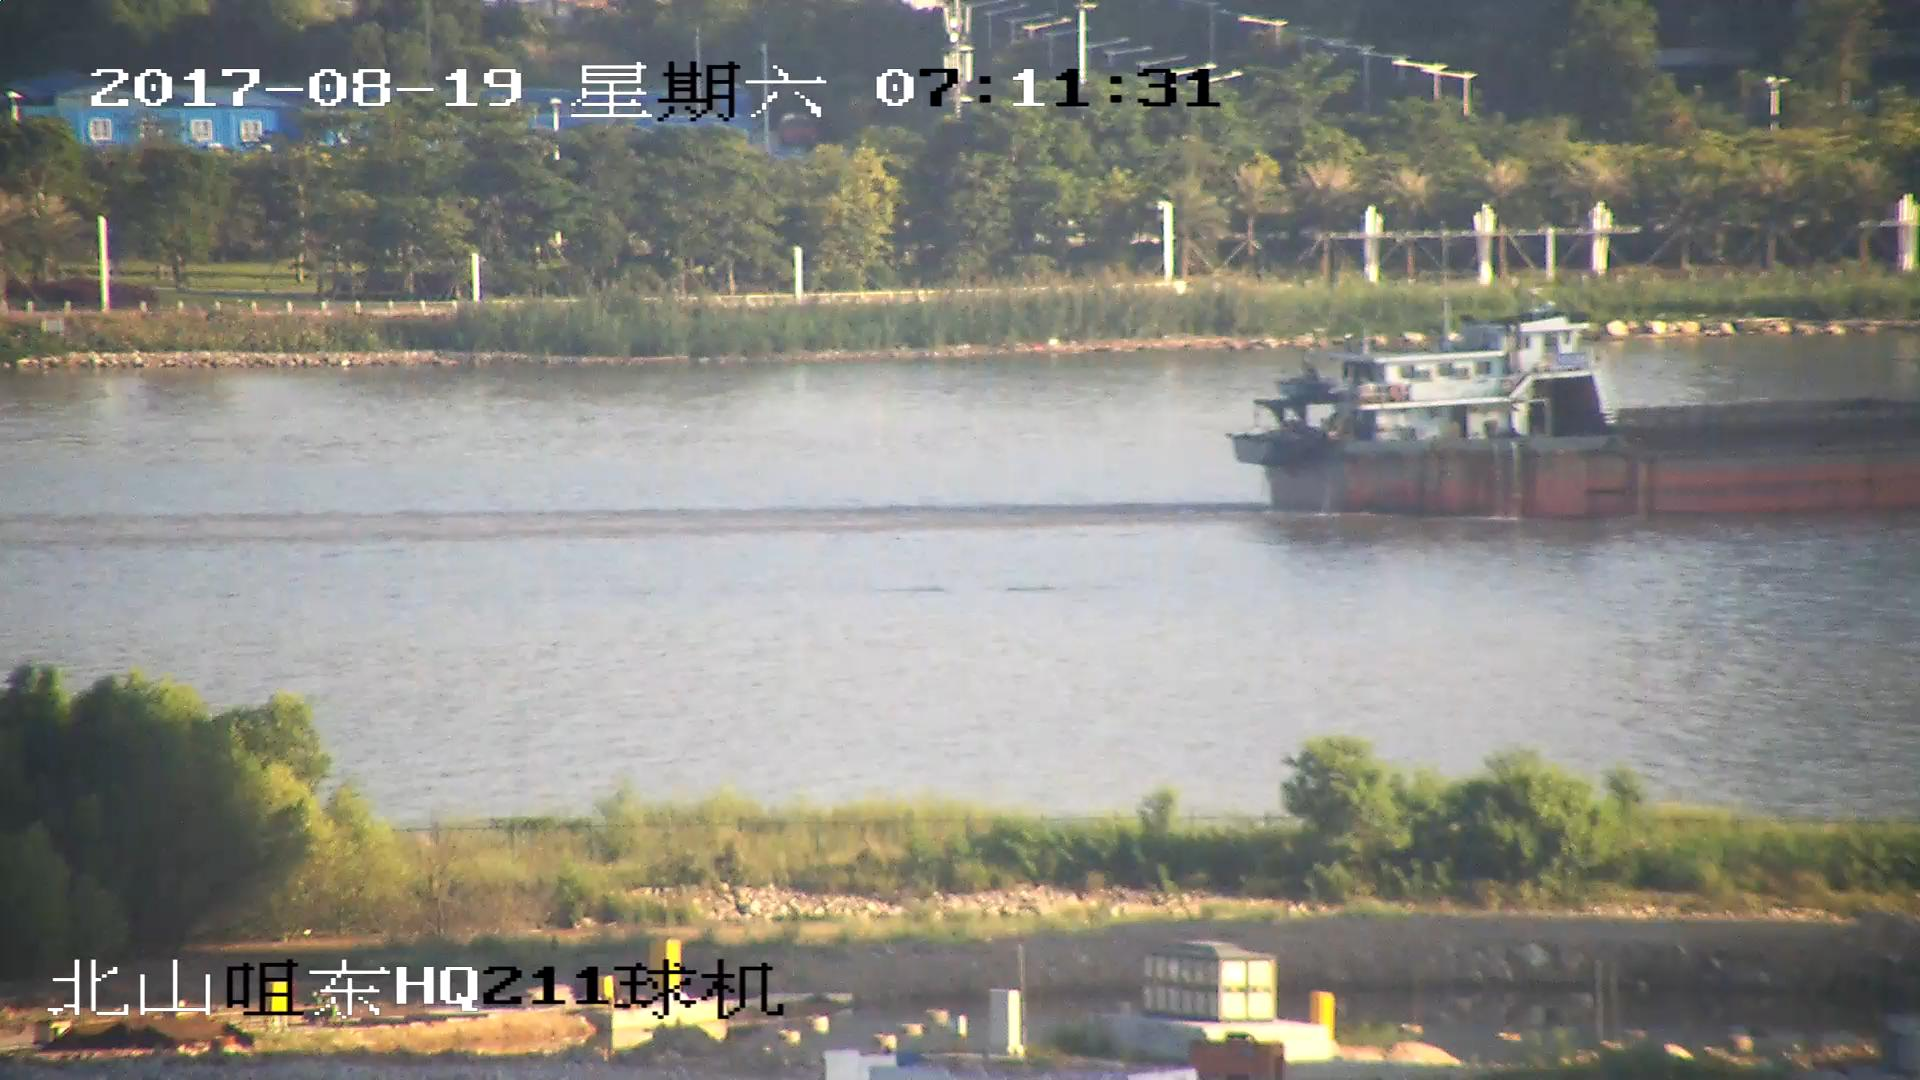bulk cargo carrier: (1227, 317, 1920, 517)
